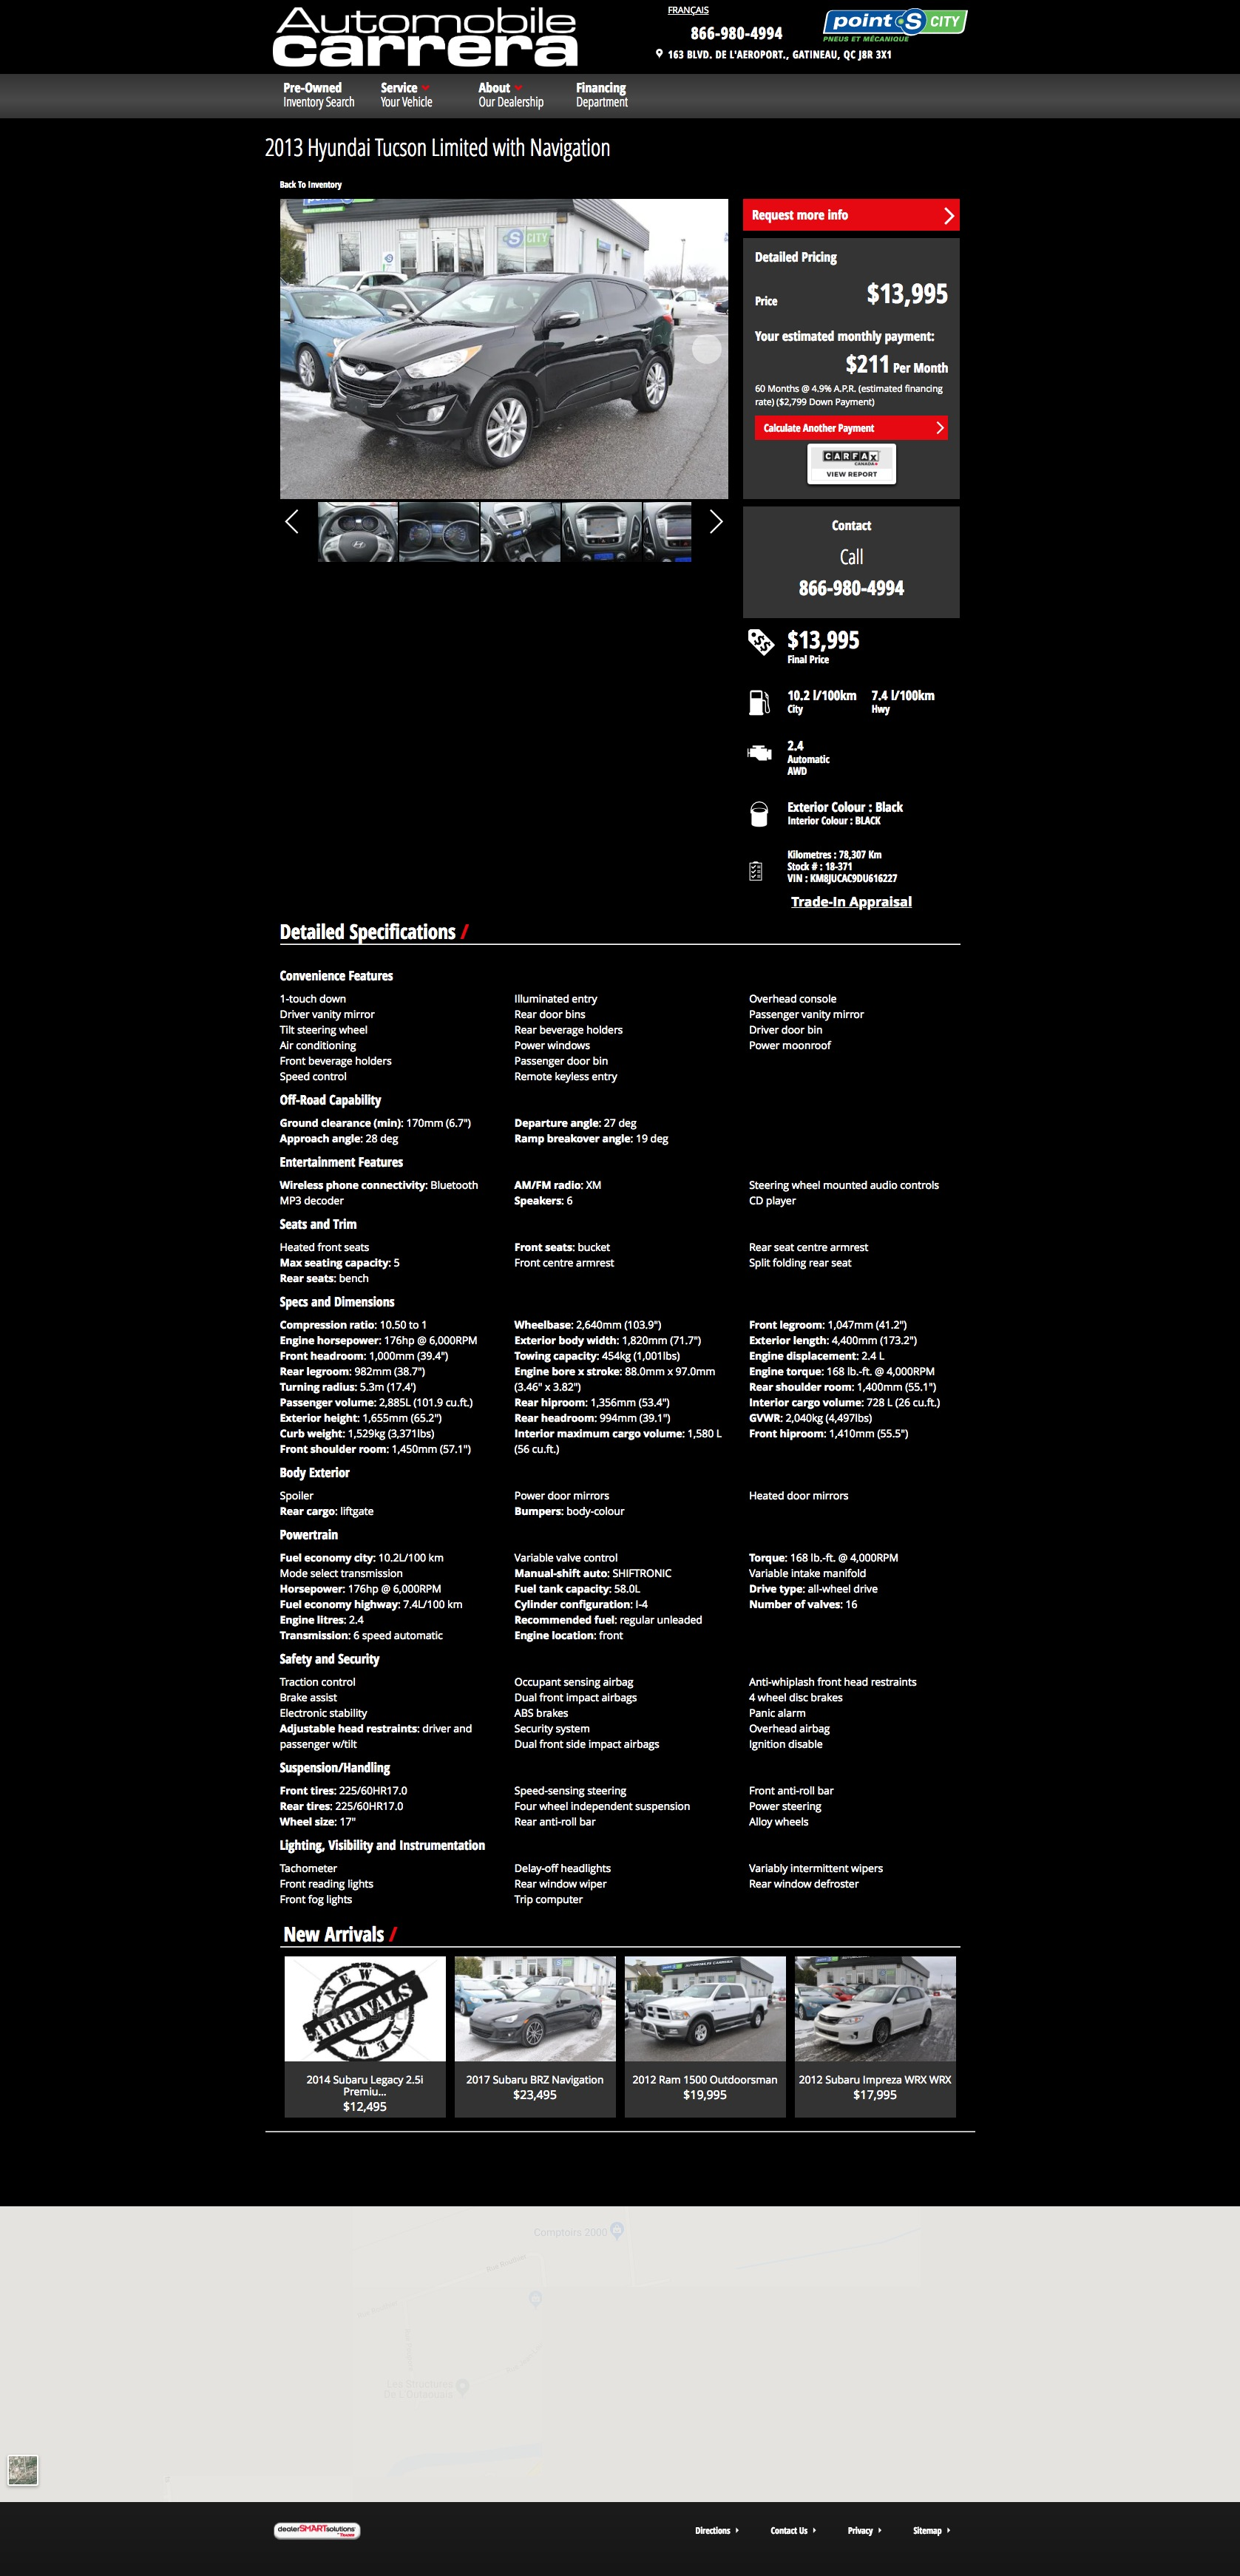car: (708, 509, 726, 536)
